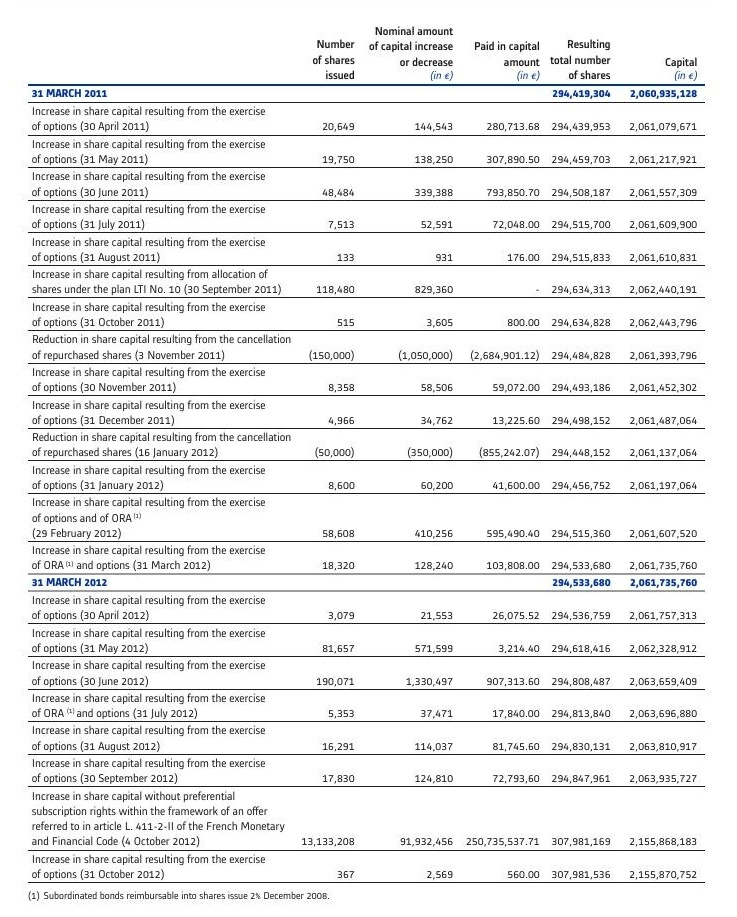table: (0, 0, 737, 917)
